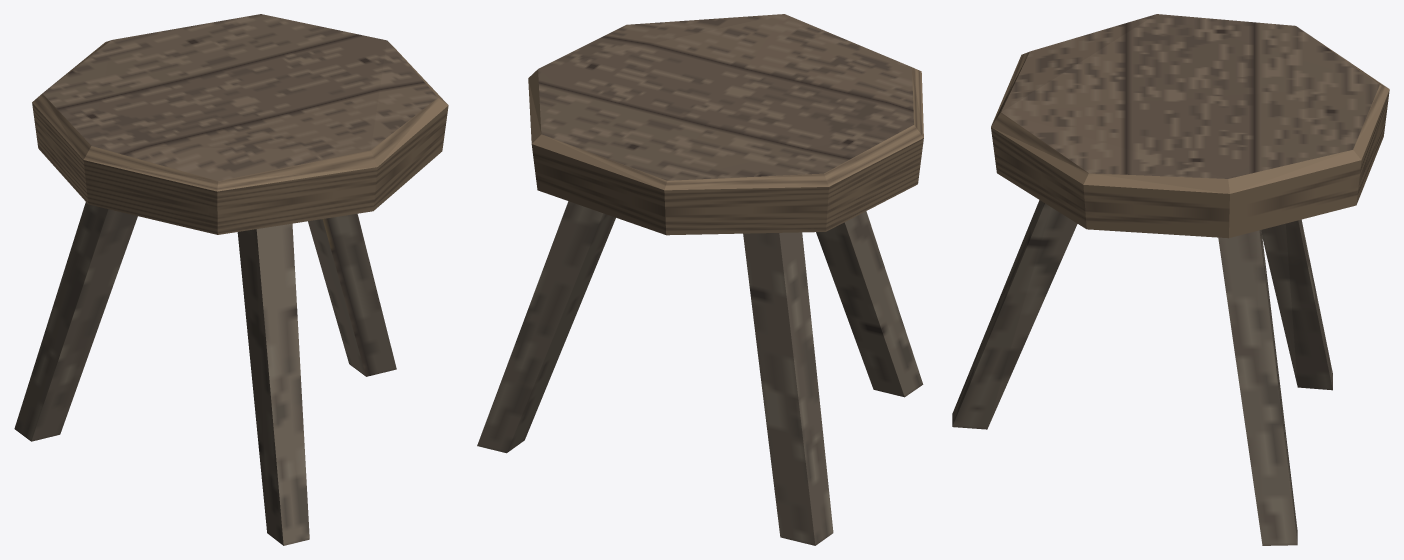
The model's file is SM_CV_Stool.fbx.
3 renders of one model, left to right at view 1: azimuth 30°, elevation 25°; view 2: azimuth 150°, elevation 25°; view 3: azimuth 270°, elevation 25°, orthographic. The views are drawn at different scales.
Parts seen in each view (by area): view 1: CV_Stool_Seat, CV_Stool_Legs; view 2: CV_Stool_Seat, CV_Stool_Legs; view 3: CV_Stool_Seat, CV_Stool_Legs.
Boxes of the visible parts, x1,y1,x2,y2 form: CV_Stool_Seat: (32, 14, 448, 234); CV_Stool_Legs: (14, 202, 396, 545); CV_Stool_Seat: (528, 14, 923, 235); CV_Stool_Legs: (477, 201, 923, 545); CV_Stool_Seat: (991, 14, 1389, 238); CV_Stool_Legs: (952, 200, 1332, 545).
Bounding box in the file's own units: 0.4405 × 0.4035 × 0.4483.
